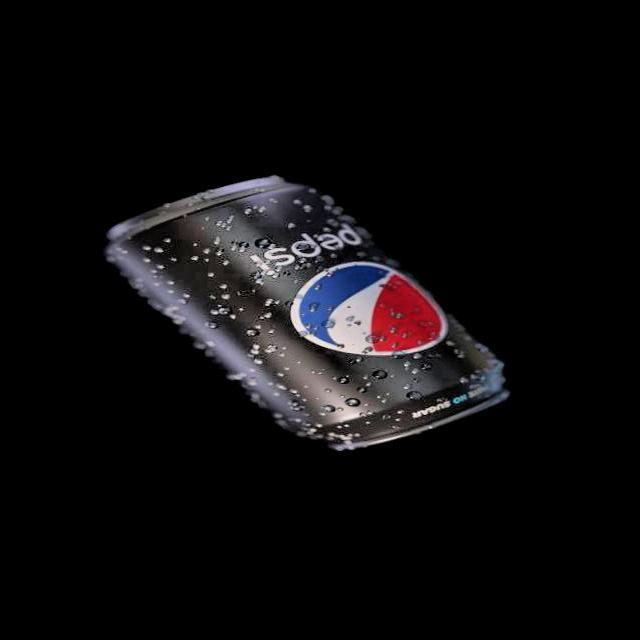Aluminum Can: (78, 148, 542, 478)
